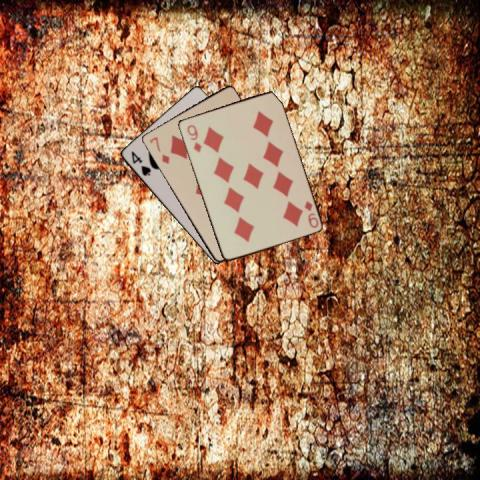4s: (128, 148, 152, 177)
7d: (146, 134, 170, 165)
9d: (183, 121, 203, 154), (301, 198, 320, 229)
